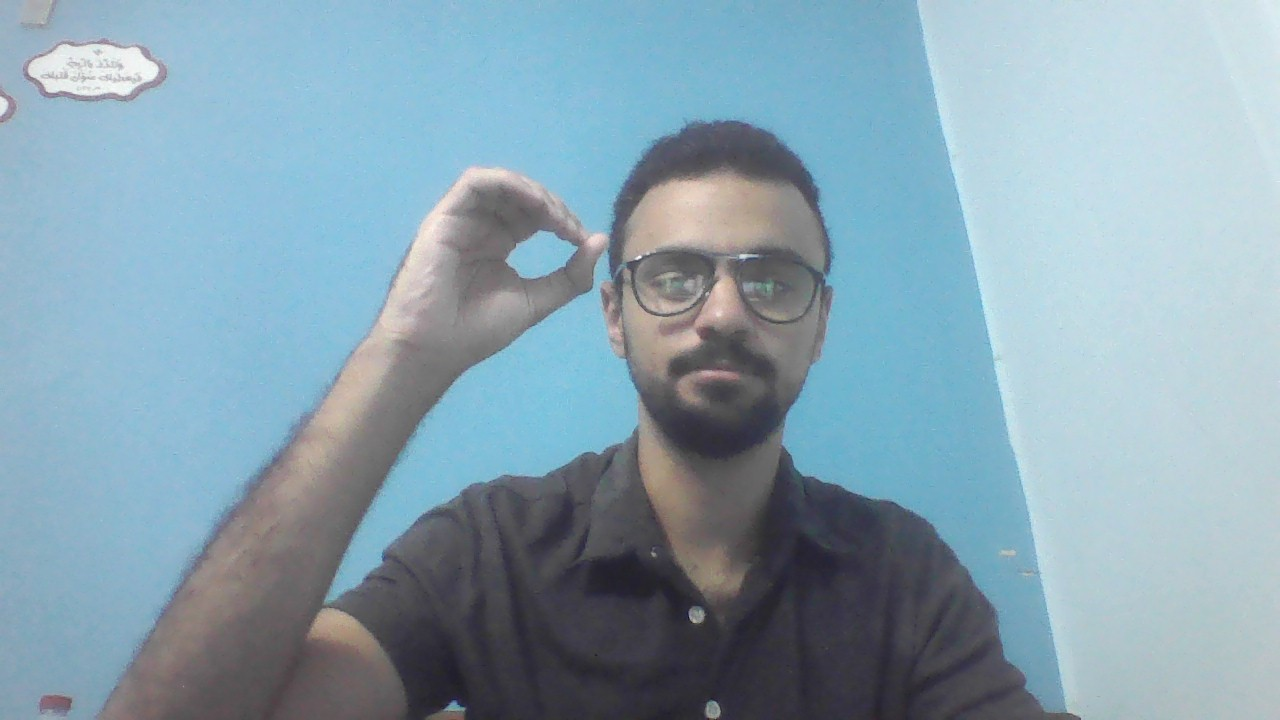okay: (376, 166, 609, 367)
